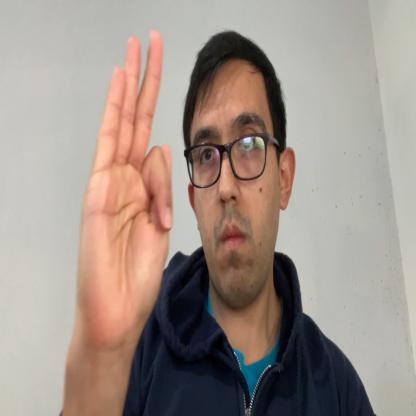F: (77, 30, 173, 324)
